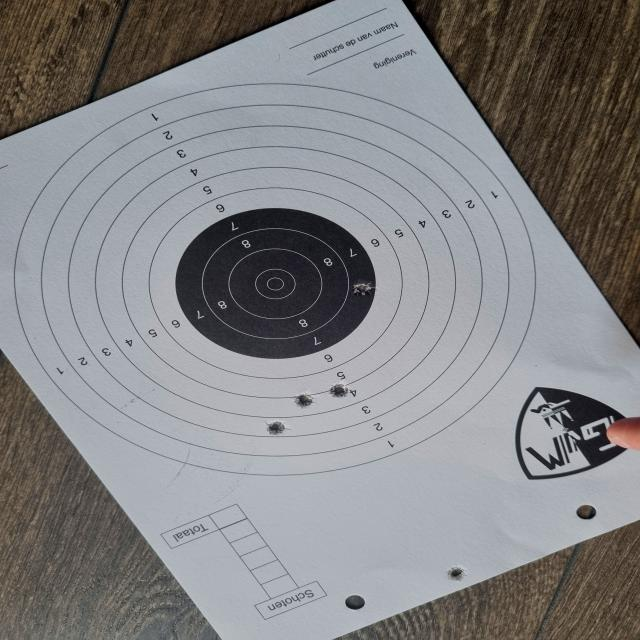3: (266, 420, 288, 438)
5: (294, 390, 317, 409), (329, 384, 349, 401)
7: (350, 280, 375, 298)
Target: (11, 82, 538, 476)
black_contour: (173, 208, 376, 360)
